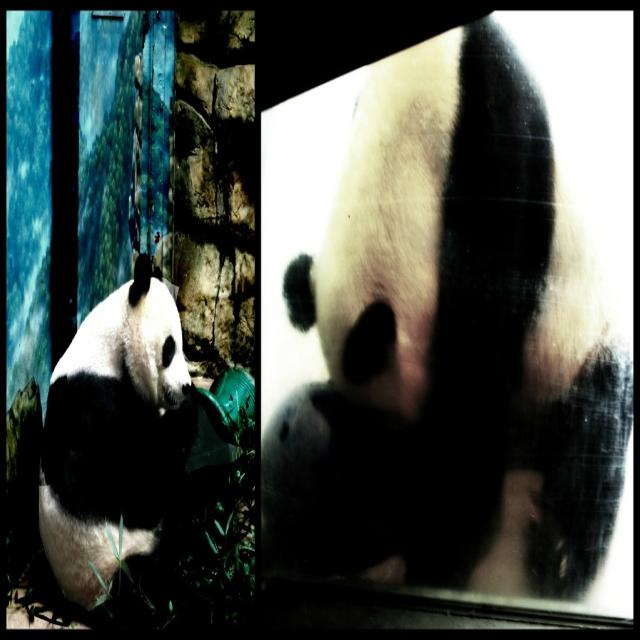panda: (280, 16, 635, 595), (36, 253, 221, 632)
